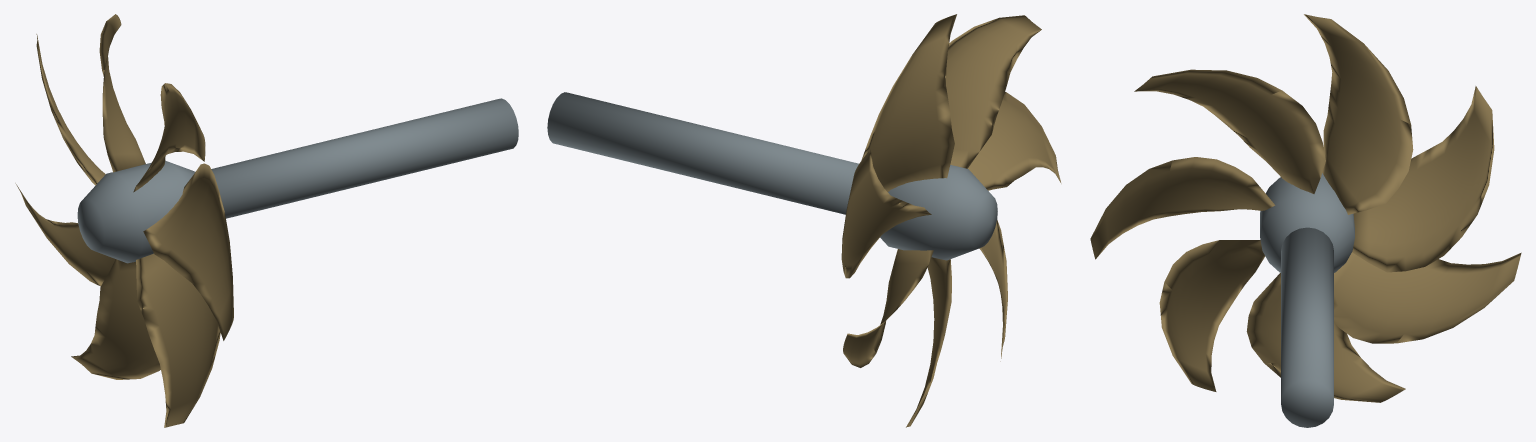
The model's file is PROP_T05_QUIET_LOD1.fbx.
3 renders of one model, left to right at view 1: azimuth 30°, elevation 25°; view 2: azimuth 150°, elevation 25°; view 3: azimuth 270°, elevation 25°, orthographic. The views are drawn at different scales.
Parts seen in each view (by area): view 1: PROP_T05_QUIET_LOD1_Shaft.001, PROP_T05_QUIET_LOD1_Blade_04.001, PROP_T05_QUIET_LOD1_Blade_03.001, PROP_T05_QUIET_LOD1_Hub.001, PROP_T05_QUIET_LOD1_Blade_05.001, PROP_T05_QUIET_LOD1_Blade_01.001, PROP_T05_QUIET_LOD1_Blade_02.001, PROP_T05_QUIET_LOD1_Blade_06.001, PROP_T05_QUIET_LOD1_Blade_00.001; view 2: PROP_T05_QUIET_LOD1_Shaft.001, PROP_T05_QUIET_LOD1_Blade_01.001, PROP_T05_QUIET_LOD1_Blade_02.001, PROP_T05_QUIET_LOD1_Hub.001, PROP_T05_QUIET_LOD1_Blade_03.001, PROP_T05_QUIET_LOD1_Blade_00.001, PROP_T05_QUIET_LOD1_Blade_06.001, PROP_T05_QUIET_LOD1_Blade_05.001, PROP_T05_QUIET_LOD1_Blade_04.001; view 3: PROP_T05_QUIET_LOD1_Blade_00.001, PROP_T05_QUIET_LOD1_Blade_01.001, PROP_T05_QUIET_LOD1_Blade_06.001, PROP_T05_QUIET_LOD1_Shaft.001, PROP_T05_QUIET_LOD1_Blade_02.001, PROP_T05_QUIET_LOD1_Blade_04.001, PROP_T05_QUIET_LOD1_Blade_03.001, PROP_T05_QUIET_LOD1_Hub.001, PROP_T05_QUIET_LOD1_Blade_05.001.
Boxes of the visible parts, x1,y1,x2,y2 form: PROP_T05_QUIET_LOD1_Shaft.001: (211, 98, 518, 218); PROP_T05_QUIET_LOD1_Blade_04.001: (136, 253, 220, 427); PROP_T05_QUIET_LOD1_Blade_03.001: (143, 163, 233, 340); PROP_T05_QUIET_LOD1_Hub.001: (77, 160, 194, 263); PROP_T05_QUIET_LOD1_Blade_05.001: (71, 259, 160, 379); PROP_T05_QUIET_LOD1_Blade_01.001: (99, 14, 145, 172); PROP_T05_QUIET_LOD1_Blade_02.001: (133, 83, 205, 192); PROP_T05_QUIET_LOD1_Blade_06.001: (15, 183, 115, 286); PROP_T05_QUIET_LOD1_Blade_00.001: (36, 34, 105, 185); PROP_T05_QUIET_LOD1_Shaft.001: (547, 92, 858, 214); PROP_T05_QUIET_LOD1_Blade_01.001: (861, 14, 956, 191); PROP_T05_QUIET_LOD1_Blade_02.001: (946, 15, 1041, 168); PROP_T05_QUIET_LOD1_Hub.001: (880, 165, 997, 260); PROP_T05_QUIET_LOD1_Blade_03.001: (967, 92, 1061, 190); PROP_T05_QUIET_LOD1_Blade_00.001: (841, 149, 931, 278); PROP_T05_QUIET_LOD1_Blade_06.001: (843, 249, 933, 367); PROP_T05_QUIET_LOD1_Blade_05.001: (906, 257, 951, 427); PROP_T05_QUIET_LOD1_Blade_04.001: (979, 220, 1007, 361); PROP_T05_QUIET_LOD1_Blade_00.001: (1352, 86, 1494, 272); PROP_T05_QUIET_LOD1_Blade_01.001: (1304, 14, 1413, 214); PROP_T05_QUIET_LOD1_Blade_06.001: (1334, 252, 1521, 343); PROP_T05_QUIET_LOD1_Shaft.001: (1281, 227, 1333, 427); PROP_T05_QUIET_LOD1_Blade_02.001: (1134, 69, 1325, 193); PROP_T05_QUIET_LOD1_Blade_04.001: (1159, 240, 1265, 391); PROP_T05_QUIET_LOD1_Blade_03.001: (1090, 157, 1275, 259); PROP_T05_QUIET_LOD1_Hub.001: (1260, 173, 1354, 272); PROP_T05_QUIET_LOD1_Blade_05.001: (1246, 273, 1405, 402).
Size of the model in its own units: 523 by 455 by 448.
